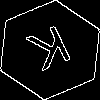K: (25, 25, 79, 80)
